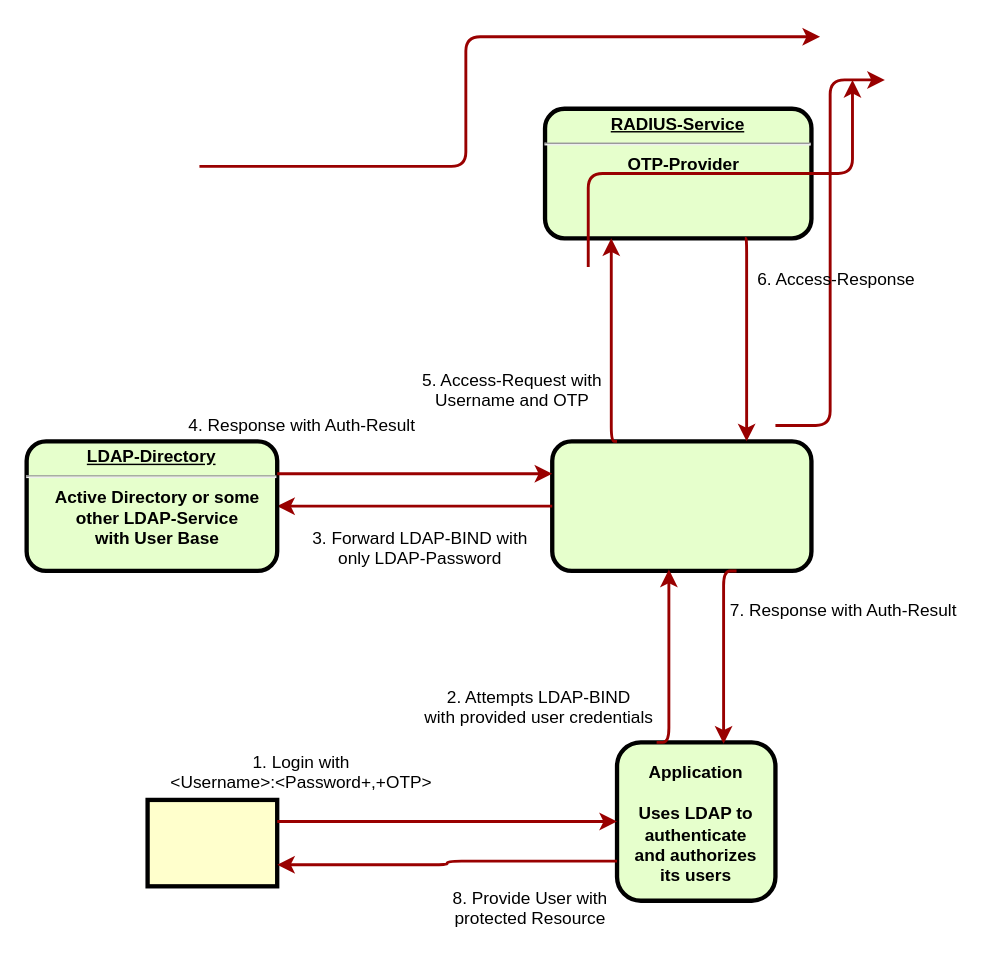
The diagram is 984 pixels wide and 953 high, and some of its shapes have lost their labels. The shapes that lost their labels are listed below. From the top down, each one's centre as x and y in pixels, then its label:
point 681,505: LDAP-Proxy Splits provided Password into LDAP-Password and RADIUS-OTP
point 212,842: User
